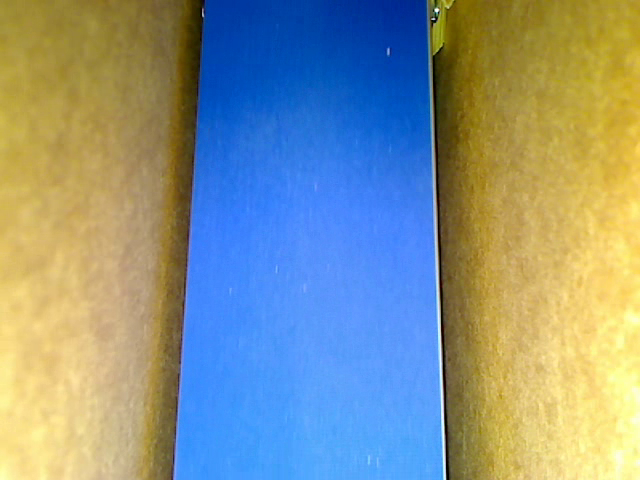penne: (430, 1, 448, 57), (440, 1, 457, 15)
